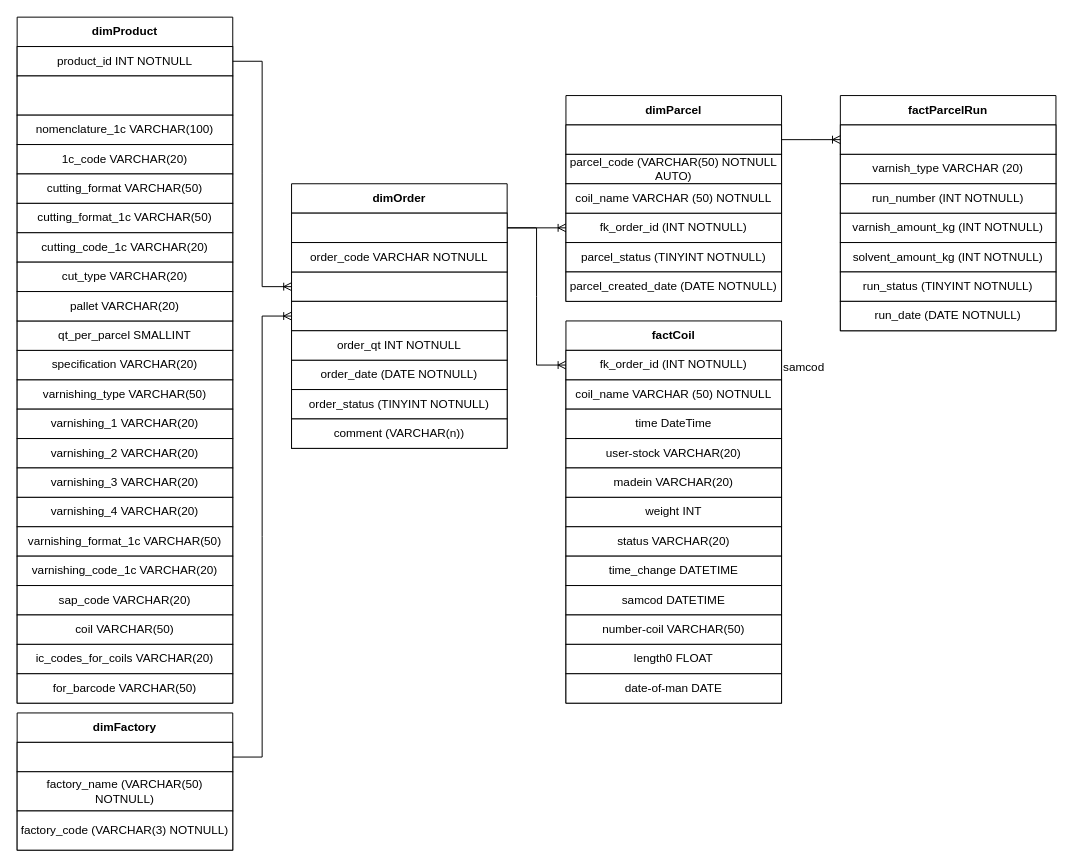
Some shapes in this 1073 by 867 pixel diagram are drawn without their labels. Each missing label, with the centre of its shape:
factory_id (INT NOTNULL AUTO): [124,756]
fk_factory_id (INT NOTNULL): [399,315]
fk_parcel_id (VARCHAR(20) NOTNULL): [947,139]
fk_product_id (INT NOTNULL): [399,286]
order_id (INT NOTNULL AUTO): [399,227]
parcel_id (VARCHAR(20) NOTNULL AUTO): [673,139]
product_name VARCHAR(50) NOTNULL: [124,95]
